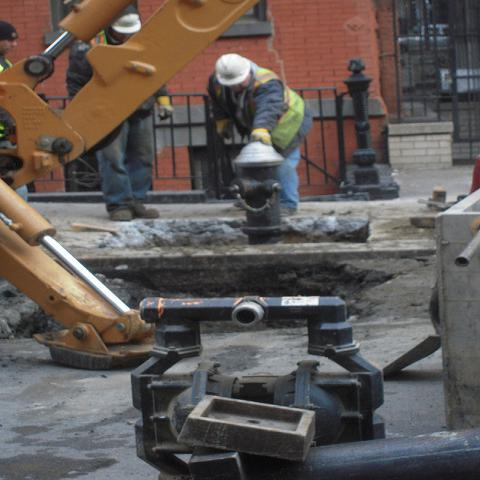car: (398, 23, 450, 54)
